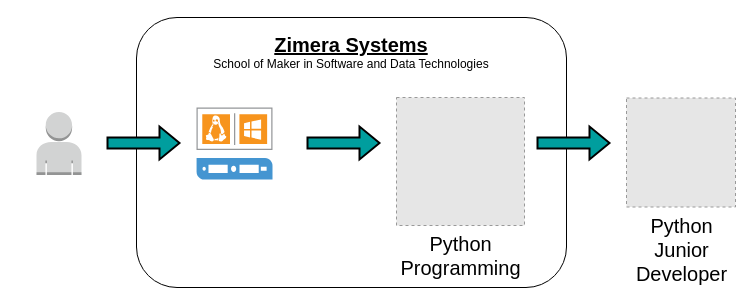
The diagram is 753 pixels wide and 305 high, and some of its shapes have lost their labels. Grey dashed boxes stand in for pictures. The centre of each missing label's shape, as x and y in pixels:
"End User" belongs at [59,143].
"Kemampuan Dasar" belongs at [234,143].
